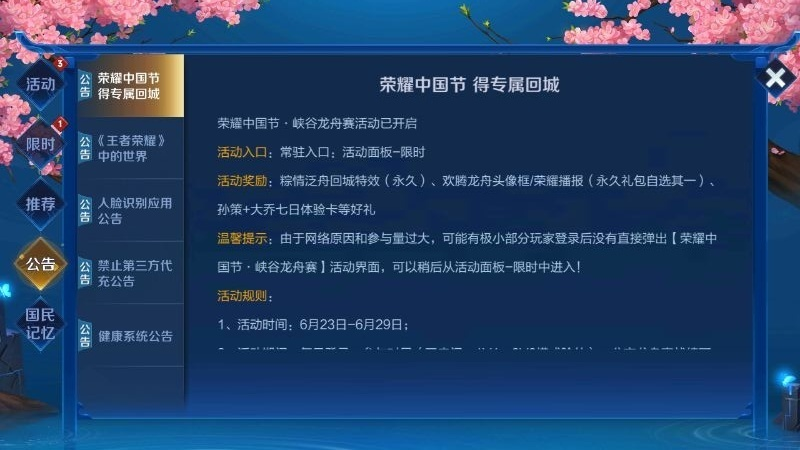close: (762, 64, 788, 93)
tag: (96, 250, 176, 295), (92, 189, 177, 227), (97, 318, 175, 355), (96, 127, 164, 166), (24, 303, 58, 348), (23, 184, 55, 220), (21, 71, 60, 98), (20, 131, 55, 153)
